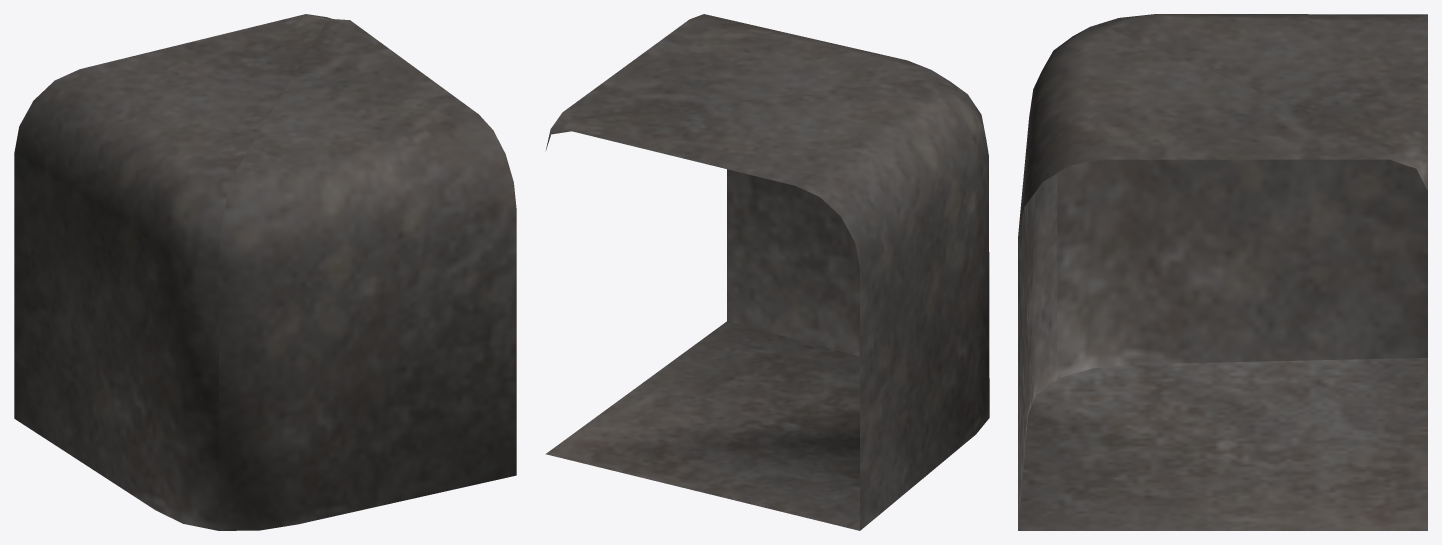
File: Concrete_block_Corner.fbx
3 renders of one model, left to right at view 1: azimuth 30°, elevation 25°; view 2: azimuth 150°, elevation 25°; view 3: azimuth 270°, elevation 25°, orthographic. The views are drawn at different scales.
Parts seen in each view (by area): view 1: Concrete_block_Corner; view 2: Concrete_block_Corner; view 3: Concrete_block_Corner.
Part boxes in pixels (bbox=[...]): Concrete_block_Corner: bbox=[14, 14, 516, 530]; Concrete_block_Corner: bbox=[545, 14, 989, 530]; Concrete_block_Corner: bbox=[1018, 14, 1427, 530].
Bounding box in the file's own units: 100 × 100 × 100.
